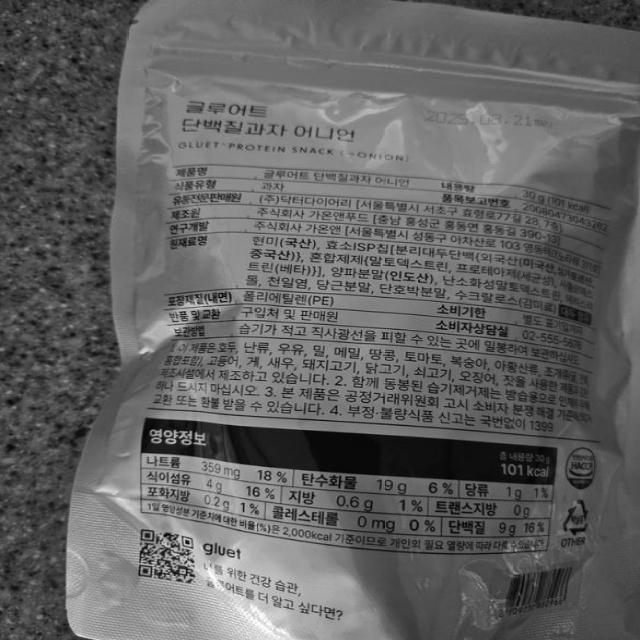Nutrition Label: (135, 410, 563, 565)
